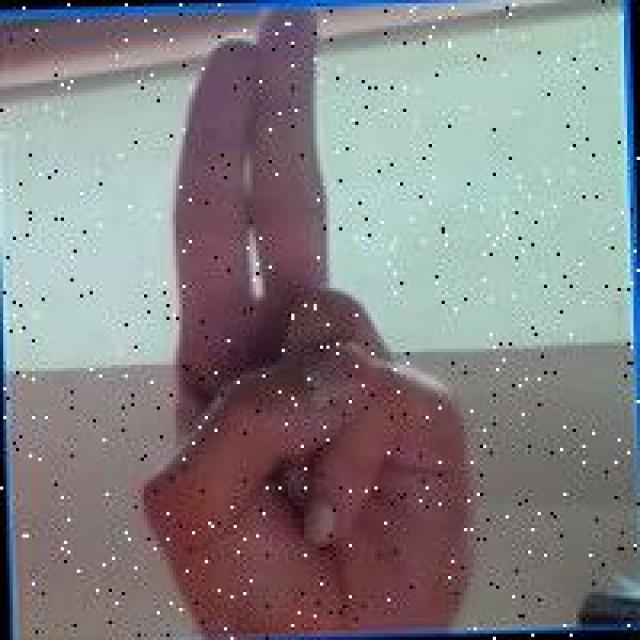U: (112, 1, 486, 628)
